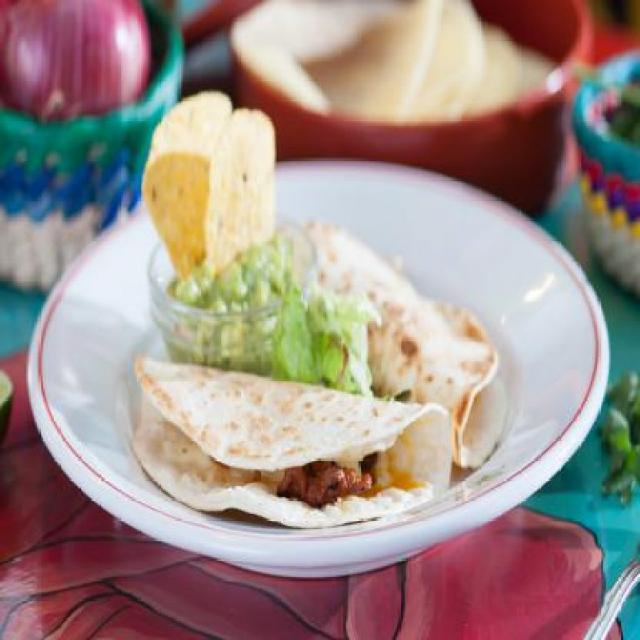chicken quesadilla: (122, 228, 510, 515)
guacamole: (166, 252, 312, 382)
nachos: (128, 97, 287, 268)
